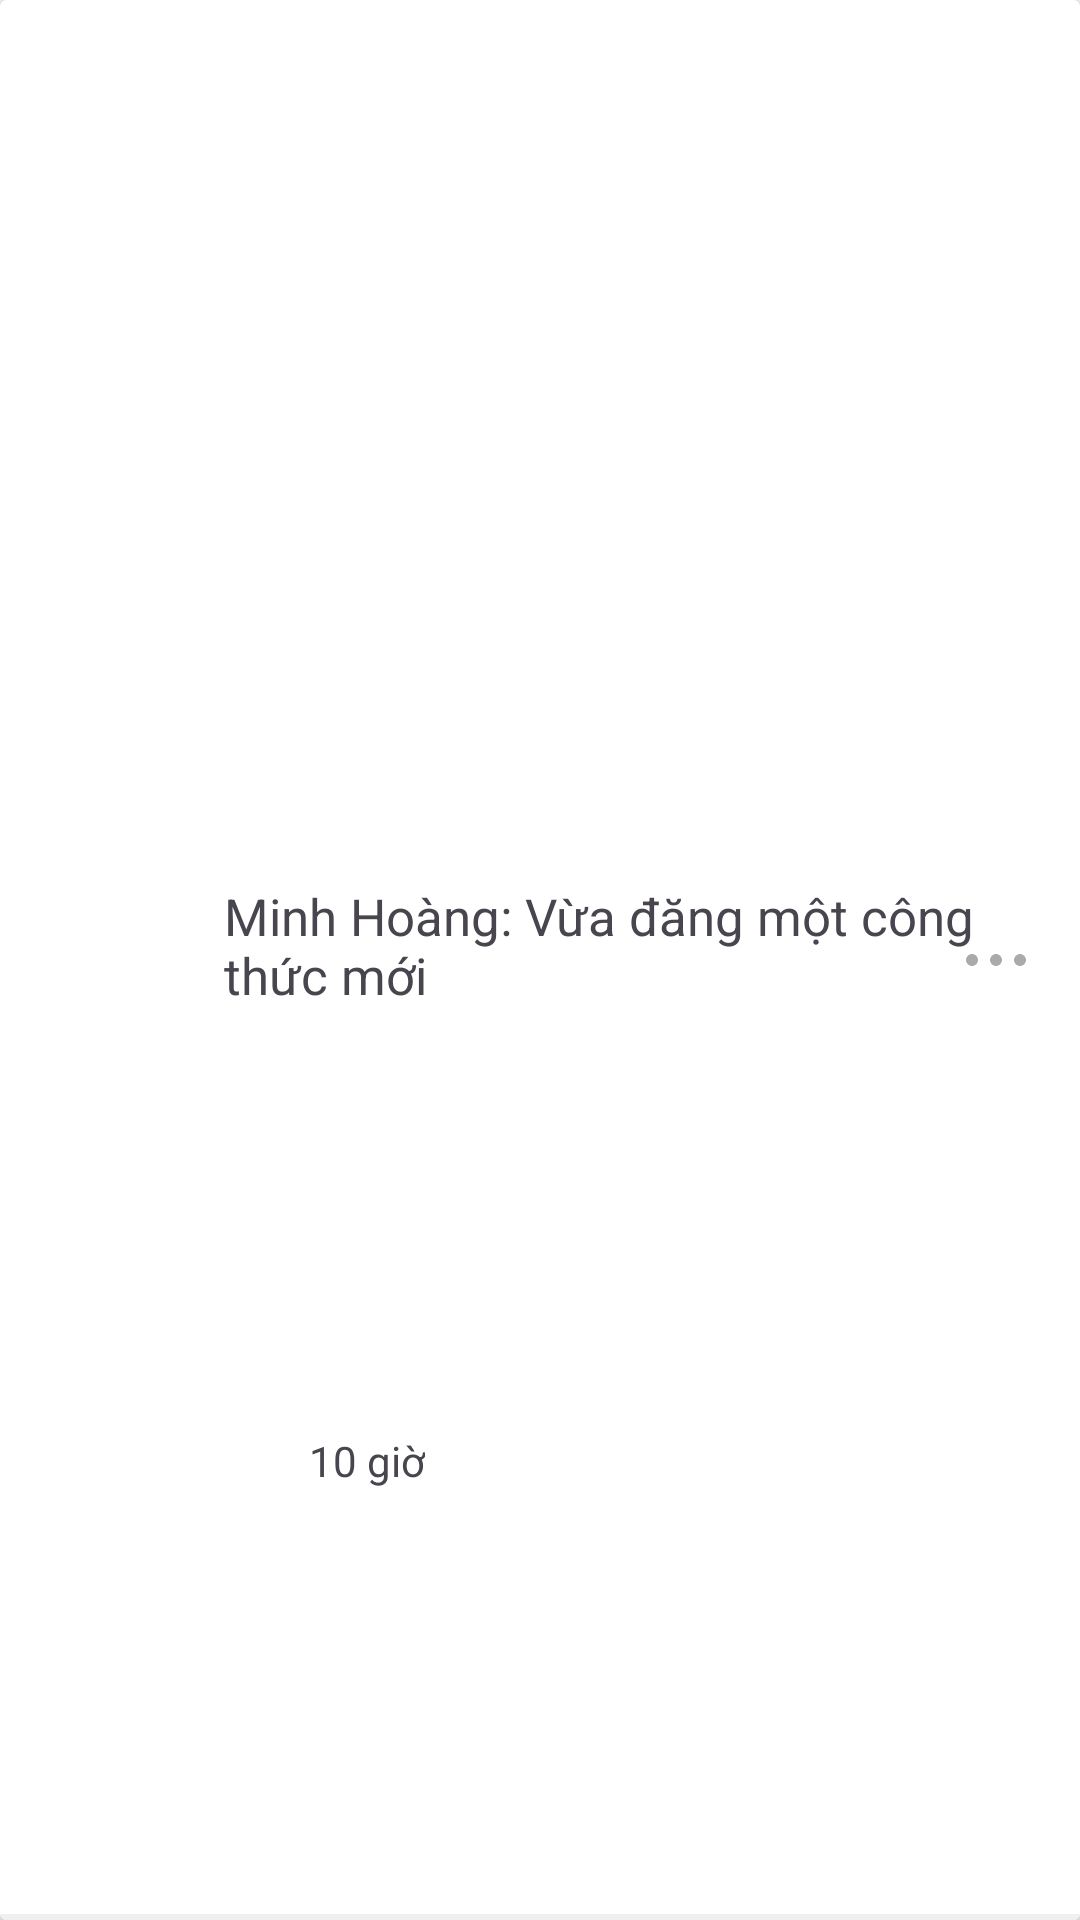

Icon click points for this 1080 × 1920 phone screenshot, format (x,y):
dangbai bacham: (996,960)
